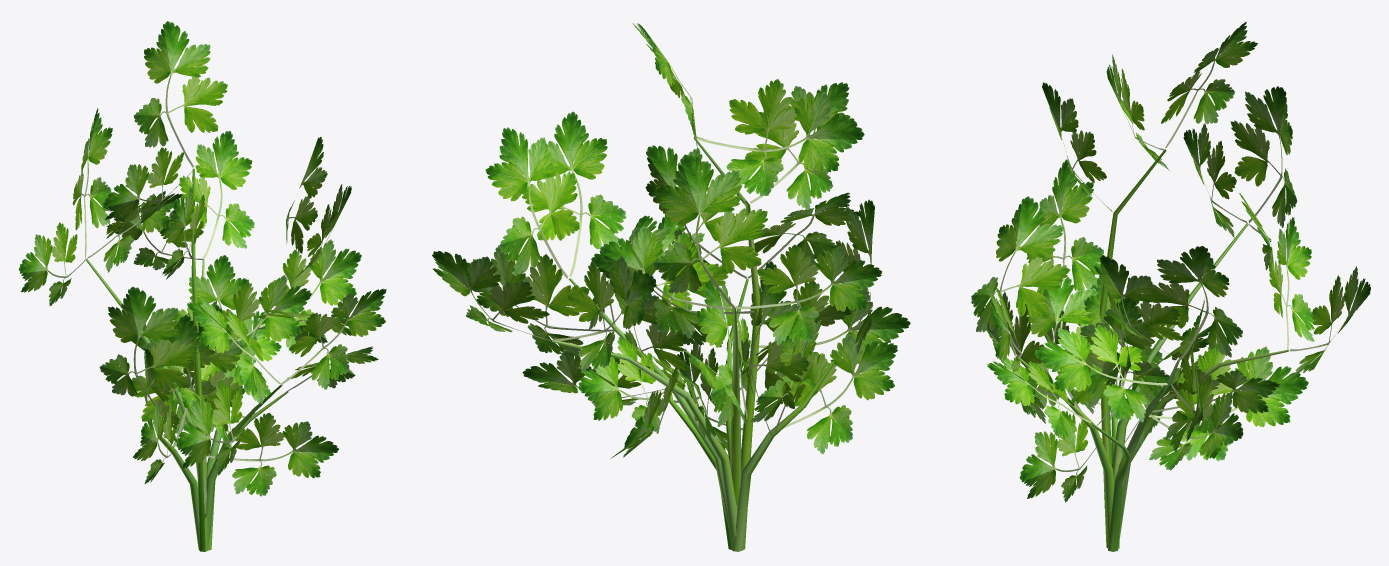
The model's file is Petersilie.fbx.
3 renders of one model, left to right at view 1: azimuth 30°, elevation 25°; view 2: azimuth 150°, elevation 25°; view 3: azimuth 270°, elevation 25°, orthographic. The views are drawn at different scales.
Visible parts, largest first — view 1: Petersilie; view 2: Petersilie; view 3: Petersilie.
Part boxes in pixels (x1,y1,x2,y2): Petersilie: [19, 21, 386, 551]; Petersilie: [432, 23, 910, 551]; Petersilie: [971, 22, 1370, 551].
Size of the model in its own units: 28.01 by 35.47 by 25.06.
